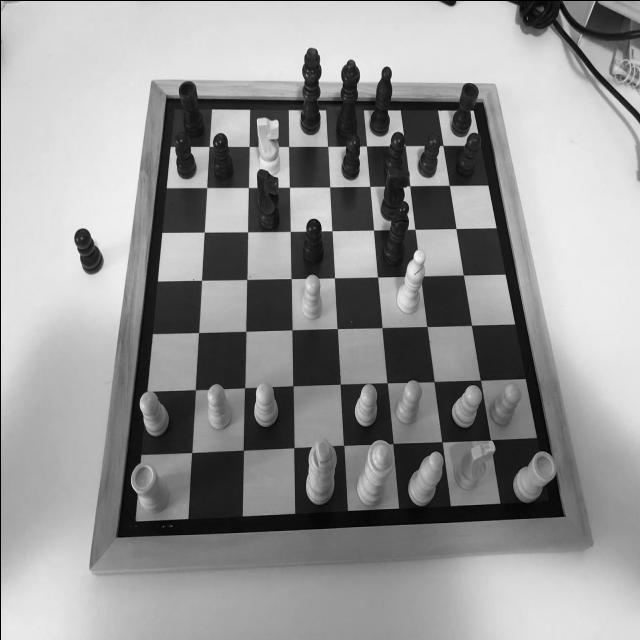chess-table-corners: (102, 524, 130, 548), (546, 504, 572, 528), (158, 86, 172, 105), (474, 94, 486, 110)
